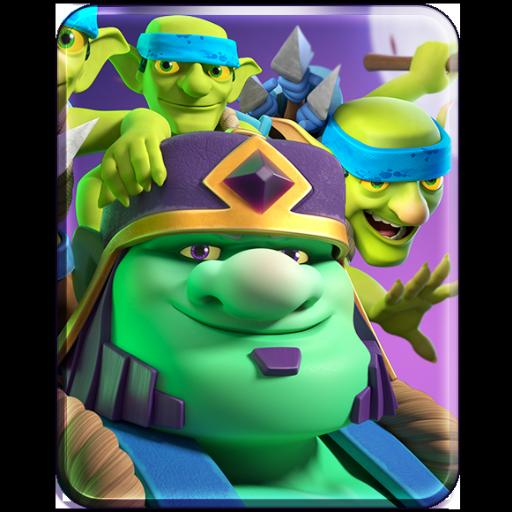goblin-giant-evo: (70, 17, 444, 497)
